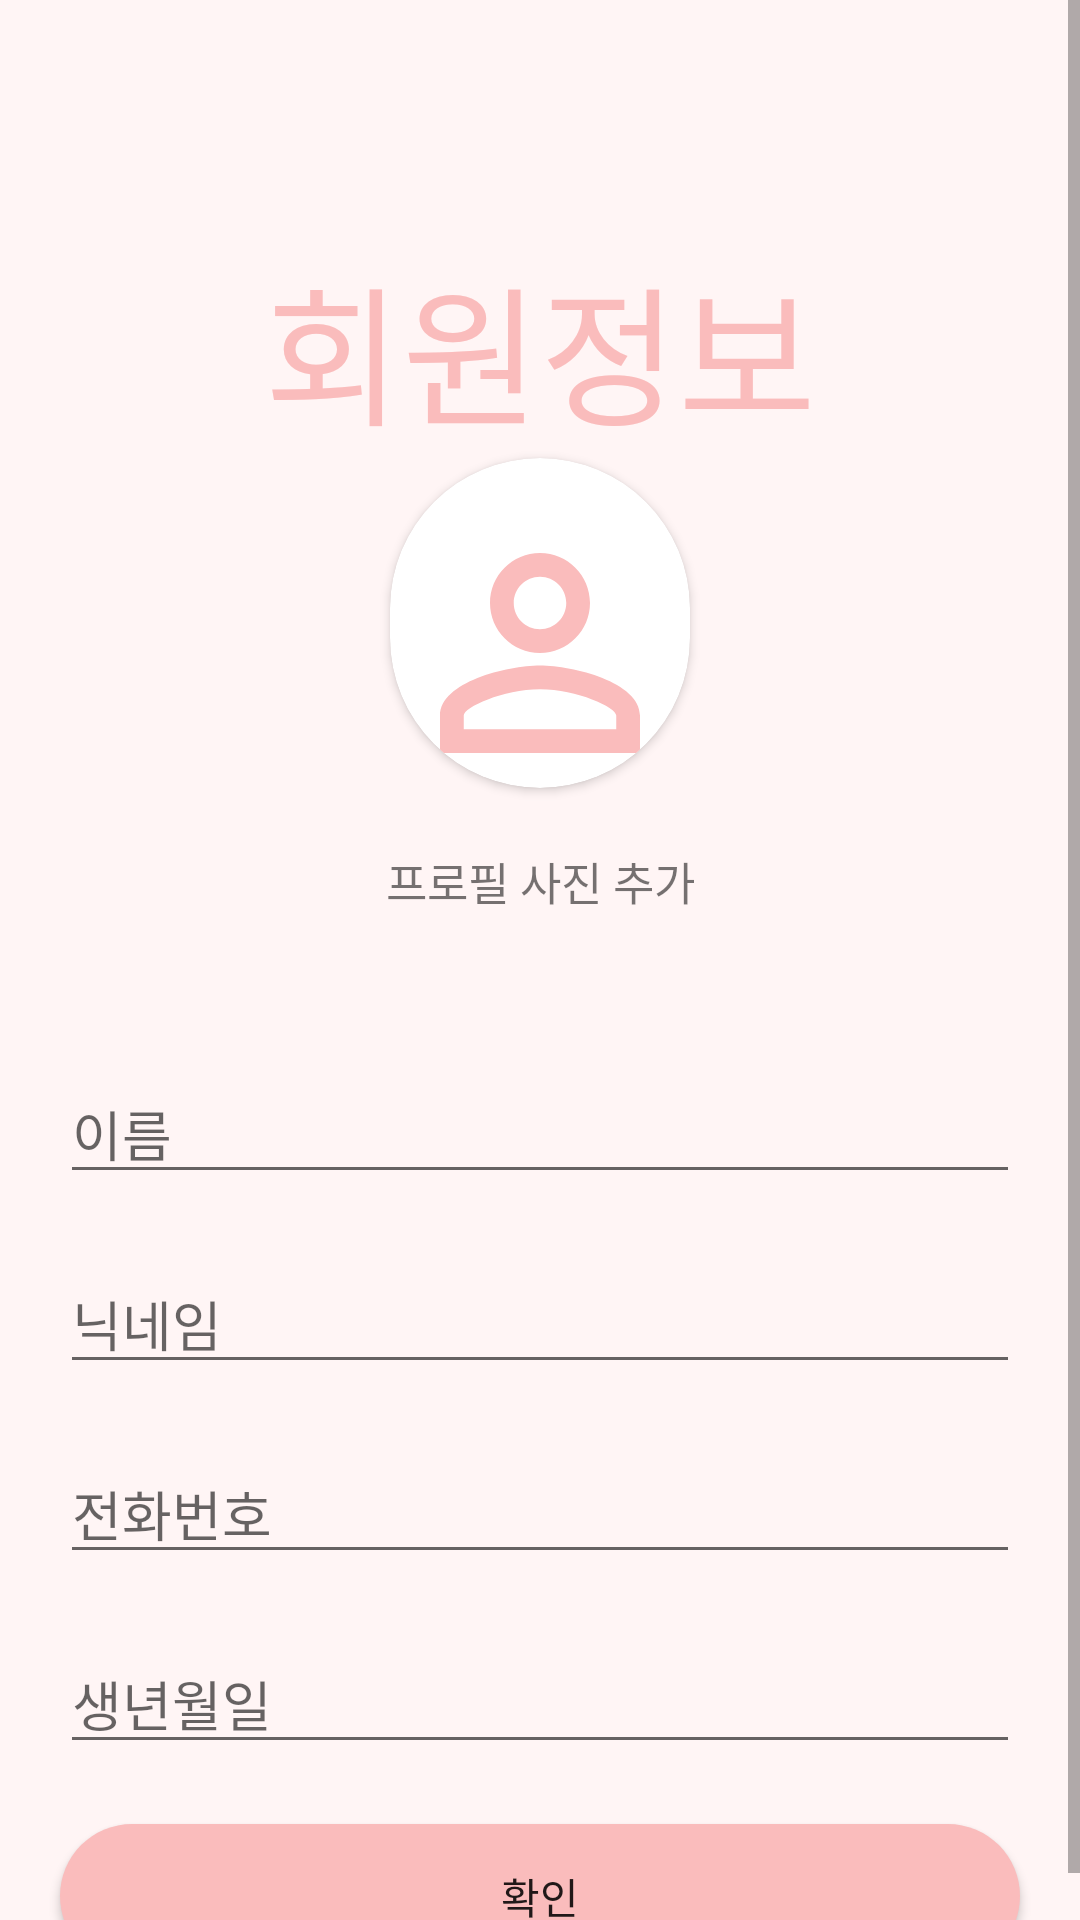

Screen size 1080×1920. Icon name, then its center in pixels as point (x, y):
perm identity: point (540, 645)
